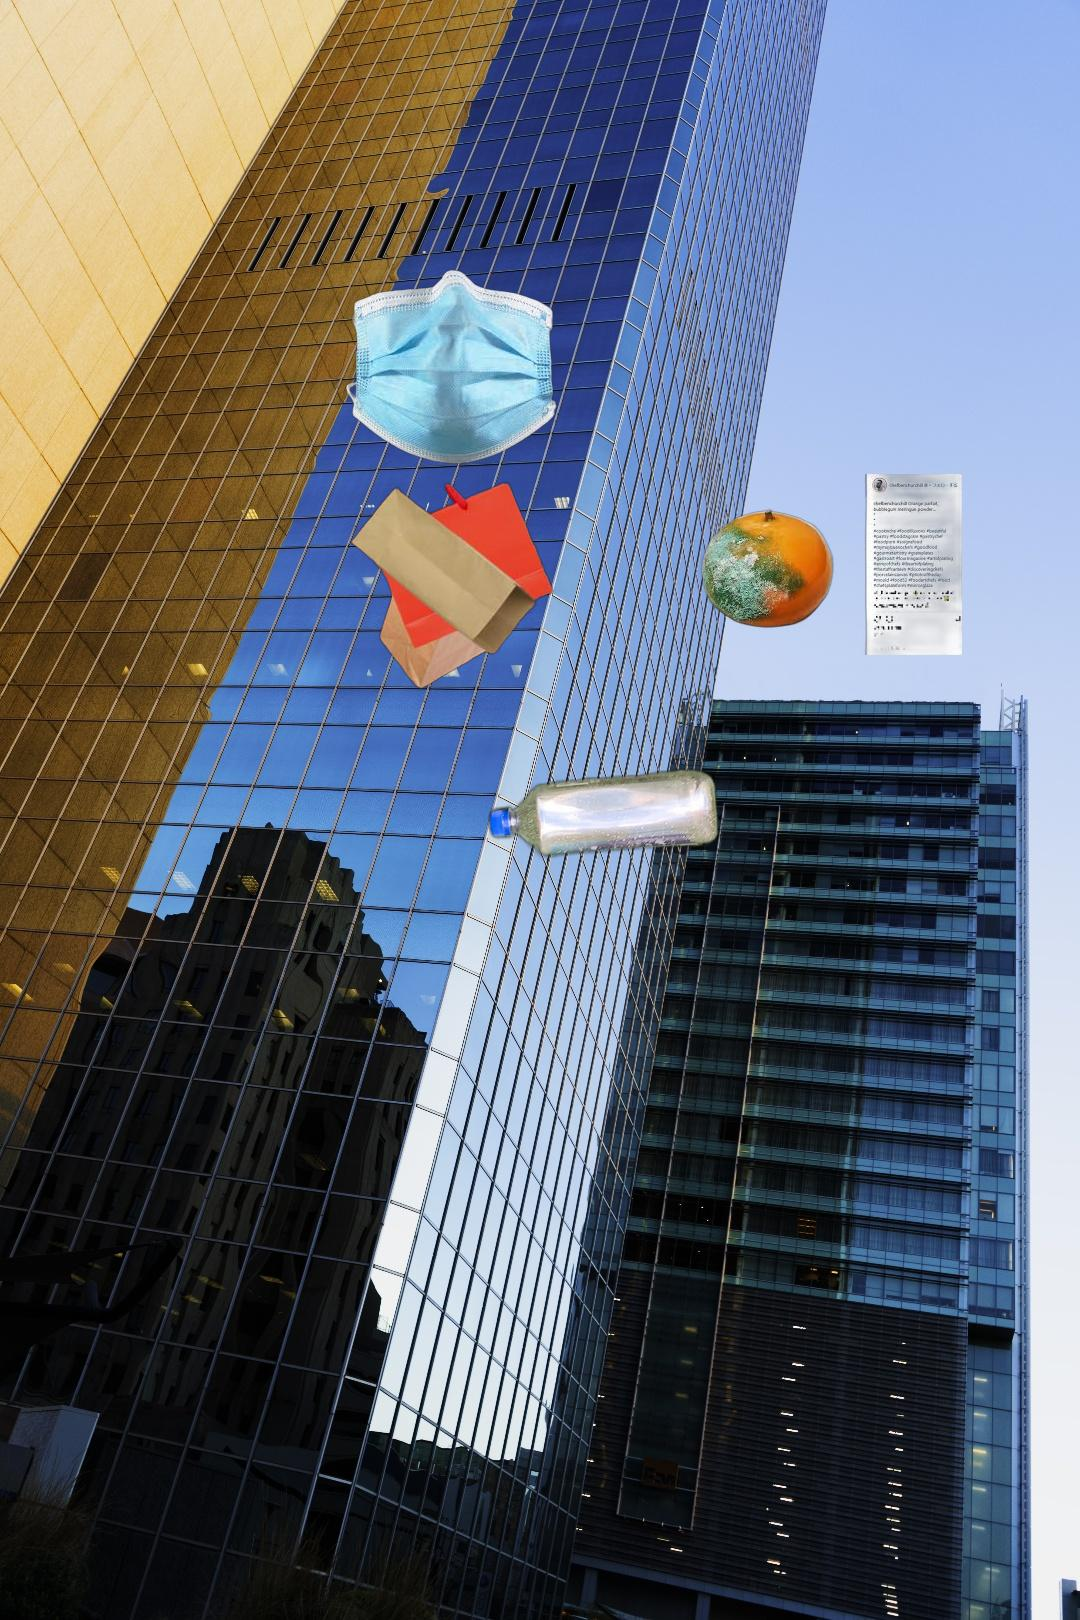biological: (699, 474, 962, 655)
paper-bag: (348, 480, 556, 692)
plastic-bottles: (485, 763, 722, 863)
trash: (344, 268, 559, 466)
